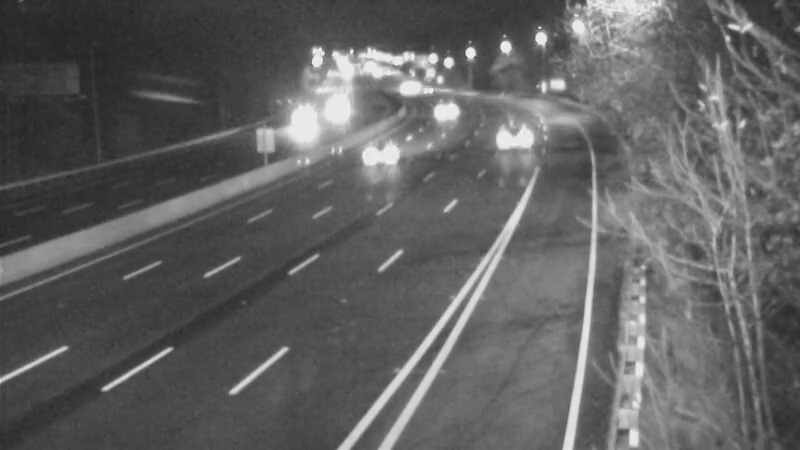vehicle: (343, 111, 423, 191), (379, 66, 429, 116), (398, 63, 448, 113), (424, 85, 474, 135), (481, 105, 531, 155), (281, 97, 331, 147), (306, 87, 356, 137)
